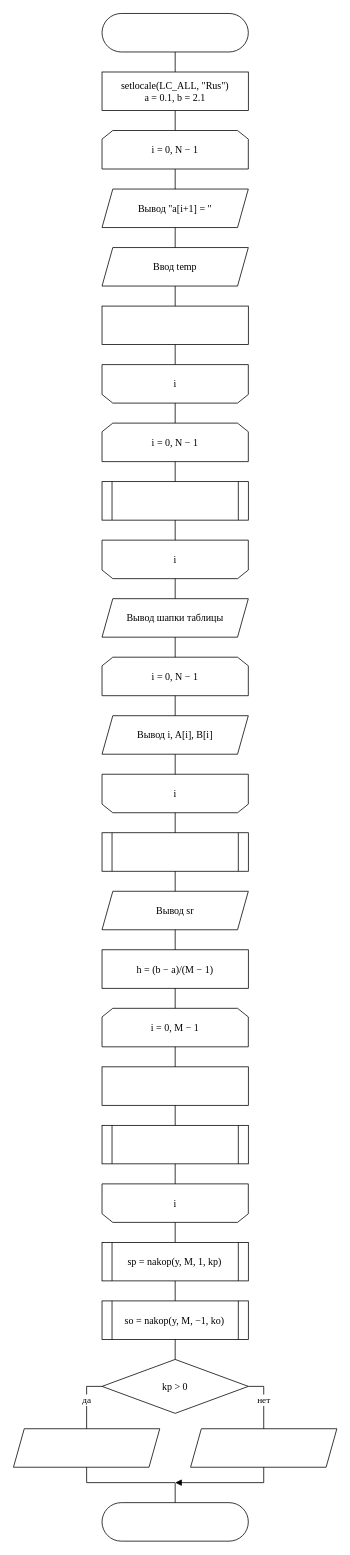
This 350x1555 diagram has some shape labels left out. Each missing label, with the box of its shape:
A[i] = temp: (101, 305, 248, 345)
B[i] = preobr(A[i]): (101, 481, 248, 520)
sr = srednee(A, N): (101, 832, 248, 871)
x = a + i·h: (101, 1066, 248, 1105)
y[i] = f(x): (101, 1125, 248, 1164)
«положительных элементов нет»: (190, 1428, 337, 1467)
Вывод sp, so, kp, ko, sp/kp: (13, 1428, 160, 1467)
Конец: (101, 1502, 248, 1541)
Начало: (101, 13, 248, 52)
